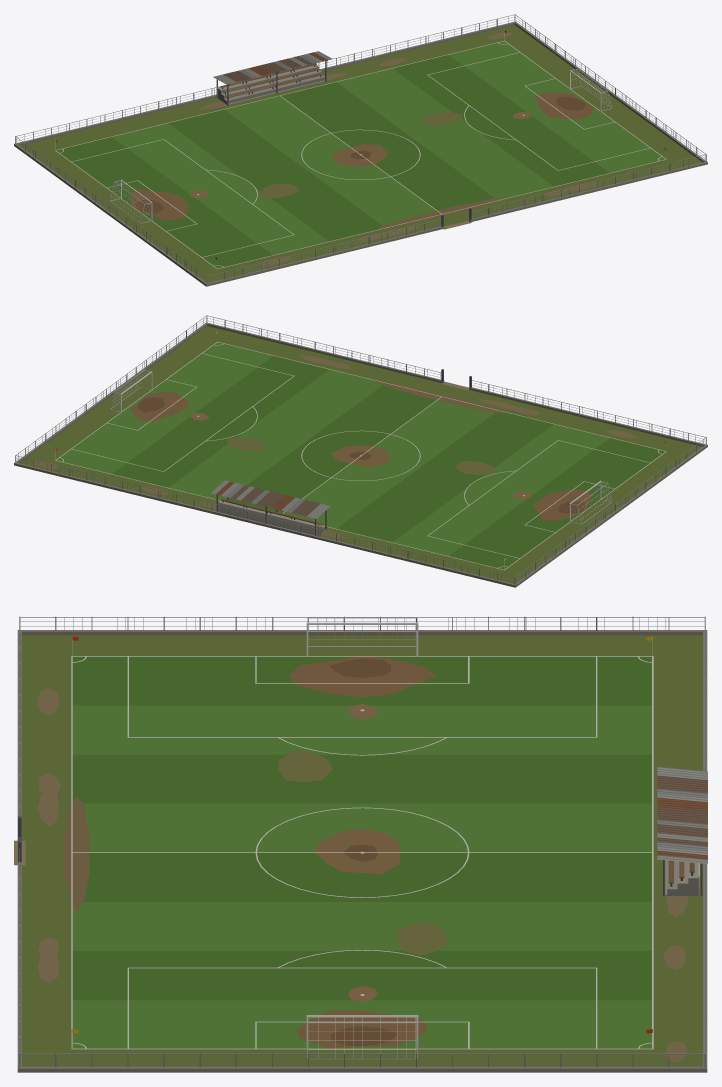
File: ns_pitch.glb
3 views of the same model, one above another, from view 1: azimuth 30°, elevation 25°; view 2: azimuth 150°, elevation 25°; view 3: azimuth 270°, elevation 25° (orthographic). The views are drawn at different scales.
Visible parts, largest first — view 1: ns_pitch; view 2: ns_pitch; view 3: ns_pitch.
Boxes of the visible parts, bbox=[...] form: ns_pitch: bbox=[14, 14, 707, 286]; ns_pitch: bbox=[14, 315, 707, 587]; ns_pitch: bbox=[14, 616, 707, 1072].
Size of the model in its own units: 71.5 by 3.15 by 47.8.
